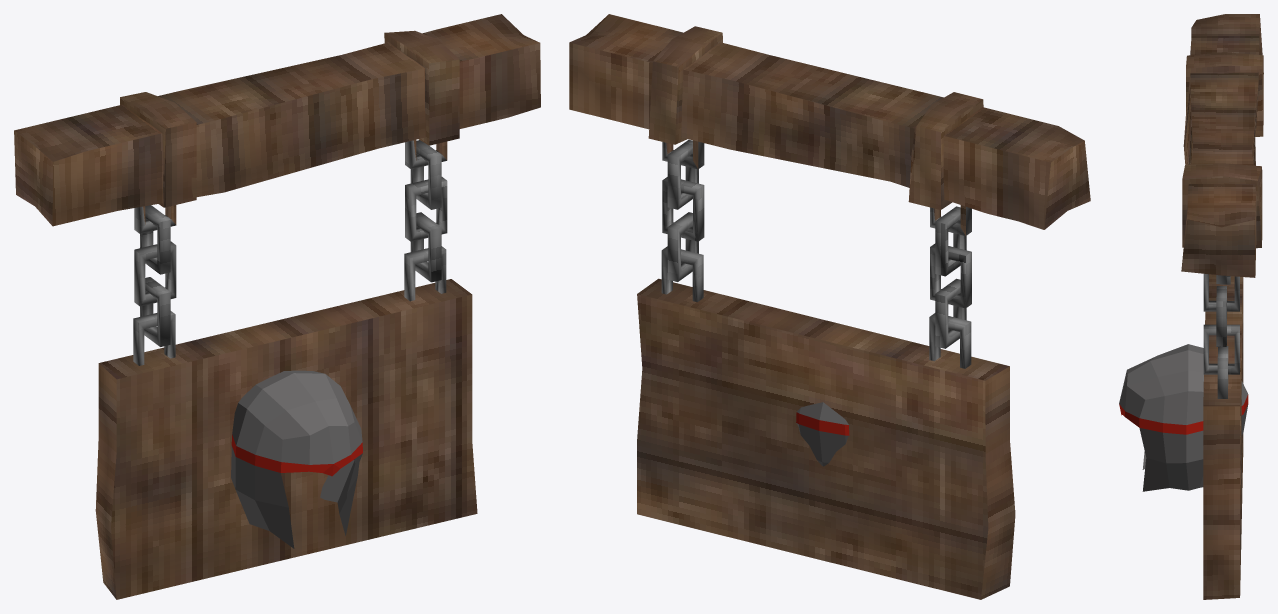
File: helm shop sign.glb
3 renders of one model, left to right at view 1: azimuth 30°, elevation 25°; view 2: azimuth 150°, elevation 25°; view 3: azimuth 270°, elevation 25°, orthographic. The views are drawn at different scales.
Parts seen in each view (by area): view 1: Shop_Sign_1; view 2: Shop_Sign_1; view 3: Shop_Sign_1.
Boxes of the visible parts, <box> form: Shop_Sign_1: <box>14,14,540,599</box>; Shop_Sign_1: <box>569,14,1090,599</box>; Shop_Sign_1: <box>1119,14,1263,599</box>.
Size of the model in its own units: 1.5 by 1.39 by 0.4442.
4 materials, 2 textured.
